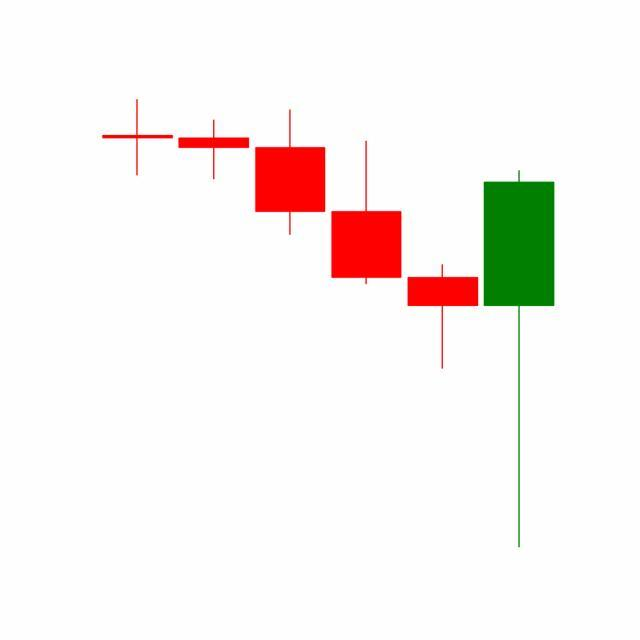Hammer: (404, 264, 482, 371)
